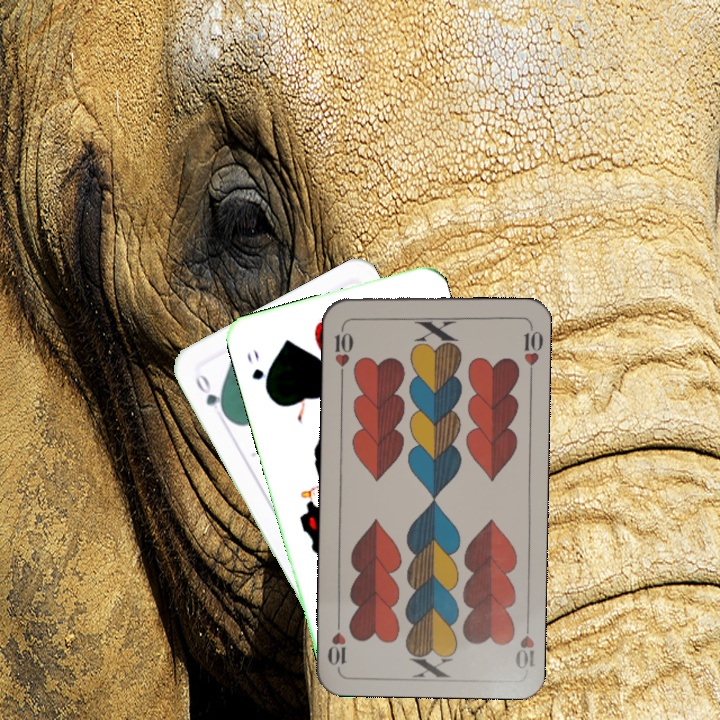GO: (191, 368, 230, 420), (242, 345, 271, 396)
H10: (330, 320, 356, 379), (511, 614, 537, 672)
